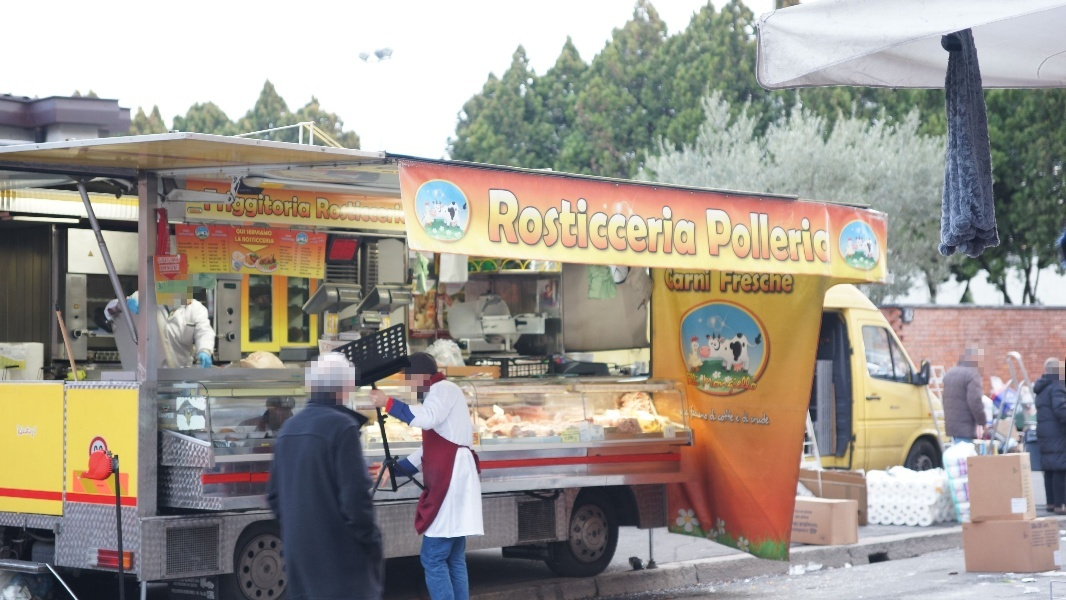text: (497, 189, 512, 259), (513, 189, 528, 259), (529, 189, 544, 259), (545, 189, 560, 259), (561, 189, 576, 259), (577, 189, 592, 259), (593, 189, 608, 259), (609, 189, 624, 259), (625, 189, 640, 259), (641, 189, 656, 259), (657, 189, 672, 259), (673, 189, 688, 259), (721, 209, 736, 265), (737, 209, 752, 265), (753, 209, 768, 265), (769, 209, 784, 265), (785, 209, 800, 265), (801, 209, 816, 265), (817, 209, 832, 265), (706, 209, 720, 265), (689, 189, 699, 259), (209, 230, 224, 272), (209, 188, 224, 227), (225, 188, 240, 227), (241, 188, 256, 227), (257, 188, 272, 227), (273, 188, 288, 227), (289, 188, 304, 227), (305, 244, 320, 276), (321, 197, 336, 226), (337, 197, 352, 226), (353, 197, 368, 226), (369, 197, 384, 226), (385, 197, 400, 226), (490, 189, 496, 259), (1041, 521, 1056, 549), (289, 234, 300, 272), (721, 269, 736, 295), (737, 269, 752, 295), (753, 269, 768, 295), (769, 269, 784, 295), (801, 510, 816, 536), (673, 267, 688, 292), (689, 267, 704, 292), (279, 234, 288, 272), (705, 375, 720, 397), (721, 375, 736, 397), (737, 375, 752, 397), (785, 269, 795, 295), (177, 243, 192, 260), (1031, 521, 1040, 549), (202, 188, 208, 227), (305, 188, 311, 227), (691, 404, 704, 422), (664, 267, 672, 292), (753, 412, 768, 425), (689, 371, 700, 387), (753, 375, 761, 397), (201, 243, 208, 268), (721, 409, 734, 422), (705, 267, 711, 292), (315, 197, 320, 226), (257, 228, 272, 237), (257, 236, 272, 245), (242, 236, 256, 245), (711, 408, 720, 422), (225, 230, 228, 272), (161, 264, 176, 272), (833, 209, 835, 265), (796, 510, 800, 536), (817, 510, 821, 536), (193, 243, 199, 260), (309, 237, 320, 246), (164, 256, 176, 264), (744, 411, 752, 423), (301, 244, 304, 276), (321, 244, 324, 276), (246, 228, 256, 237), (1057, 521, 1060, 549), (177, 282, 187, 289), (168, 282, 176, 289), (705, 404, 708, 422), (161, 283, 168, 290), (685, 371, 688, 387), (234, 236, 240, 243), (241, 228, 246, 236), (717, 409, 720, 422), (321, 237, 325, 246), (236, 228, 240, 236), (177, 256, 181, 264), (177, 264, 181, 272), (157, 256, 160, 265), (161, 256, 164, 265), (737, 414, 740, 423), (157, 283, 160, 290), (273, 236, 275, 245), (769, 412, 770, 425), (159, 264, 160, 272), (241, 236, 242, 243)
